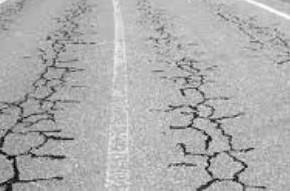alligator-crack: (134, 0, 263, 191), (0, 2, 96, 191), (218, 4, 290, 66)
